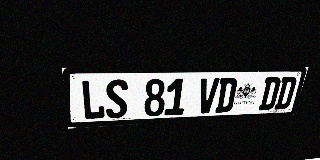1: (164, 78, 187, 116)
8: (144, 79, 166, 117)
D: (215, 78, 238, 113), (258, 77, 282, 110), (274, 77, 298, 110)
L: (80, 80, 105, 120)
S: (105, 79, 128, 119)
V: (196, 78, 220, 114)
